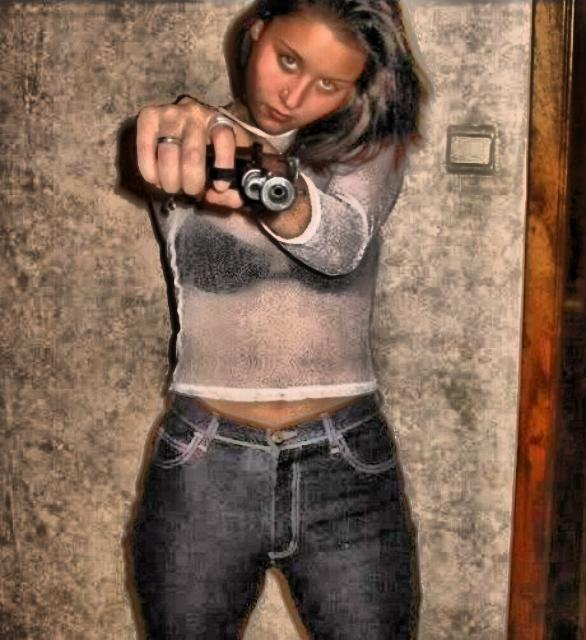pistol: (104, 115, 310, 218)
